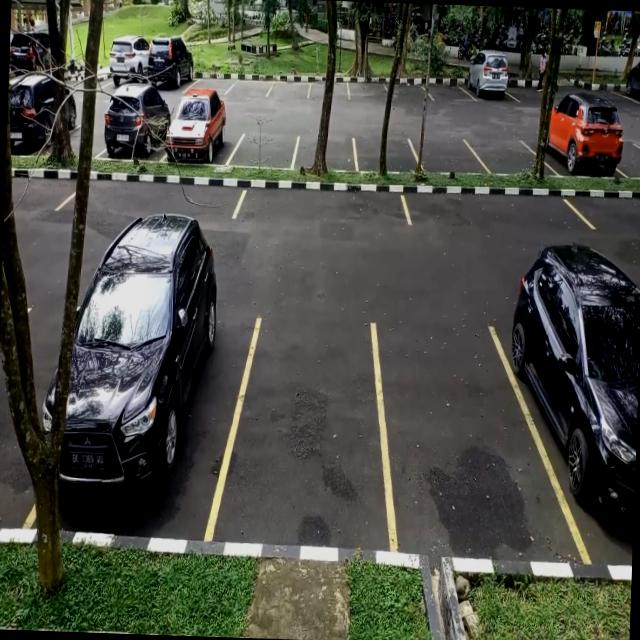car: (55, 240, 239, 540), (504, 277, 640, 564), (546, 110, 622, 180), (102, 88, 168, 162), (166, 100, 235, 166), (468, 59, 512, 103), (624, 61, 640, 106)
free: (222, 316, 389, 548), (372, 320, 530, 559), (408, 186, 588, 232), (240, 182, 411, 227), (575, 190, 640, 236), (292, 133, 358, 172), (415, 136, 480, 174), (232, 131, 296, 169), (355, 134, 417, 173), (478, 137, 539, 175), (426, 75, 467, 106), (307, 75, 349, 104), (386, 76, 427, 105), (270, 72, 312, 100), (348, 76, 390, 103), (231, 71, 273, 96), (618, 141, 640, 179)
